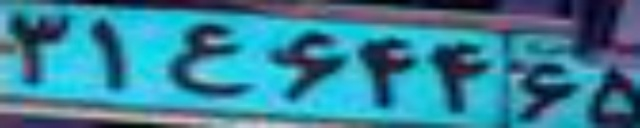1: (86, 18, 124, 90)
3: (5, 9, 73, 84)
4: (357, 36, 416, 108), (434, 42, 488, 115)
5: (585, 64, 639, 127)
6: (279, 30, 348, 103), (513, 62, 576, 120)
ain: (168, 22, 255, 97)
